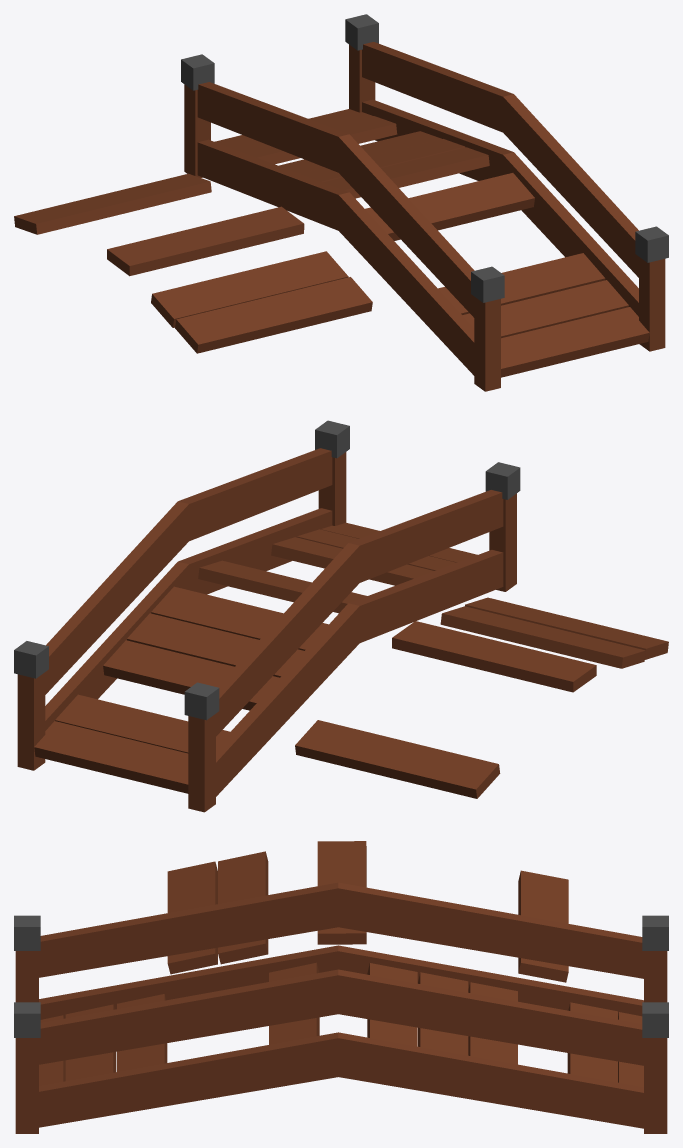
File: Bridge.fbx
The picture shows the model from 3 angles, top to bottom: view 1: azimuth 30°, elevation 25°; view 2: azimuth 150°, elevation 25°; view 3: azimuth 270°, elevation 25°; orthographic projection. The views are drawn at different scales.
Parts seen in each view (by area): view 1: Cube, Cube.014, Cube.016, Cube.019, Cube.022; view 2: Cube, Cube.022, Cube.016, Cube.019, Cube.014; view 3: Cube, Cube.022, Cube.014, Cube.019, Cube.016.
Boxes of the visible parts, x1,y1,x2,y2 form: Cube: (181, 14, 668, 391); Cube.014: (175, 277, 372, 353); Cube.016: (107, 206, 304, 276); Cube.019: (151, 251, 348, 327); Cube.022: (14, 173, 211, 234); Cube: (14, 420, 520, 812); Cube.022: (295, 720, 500, 798); Cube.016: (392, 621, 596, 692); Cube.019: (440, 606, 645, 668); Cube.014: (465, 597, 668, 659); Cube: (14, 882, 668, 1133); Cube.022: (518, 870, 568, 982); Cube.014: (167, 861, 217, 974); Cube.019: (218, 851, 268, 964); Cube.016: (317, 841, 366, 944).
Size of the model in its own units: 815 by 283 by 1065.
